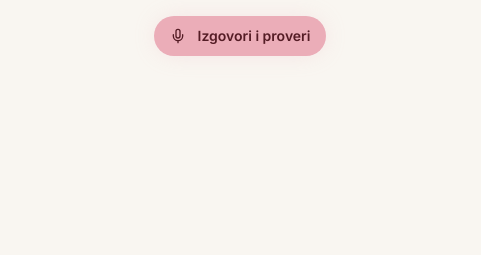
Test: Recorded pronunciation assessment › sends de recording for assessment and uses the returned score
Click the button "Izgovori i proveri" at (240, 36), box [154,16,326,56]
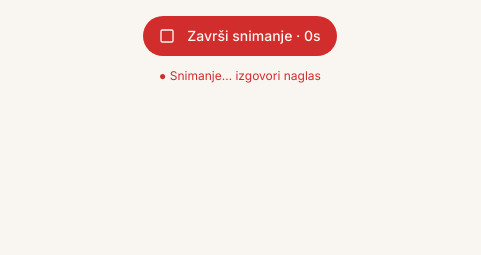
Click the button "Završi snimanje · 0s" at (240, 36), box [143,16,337,56]
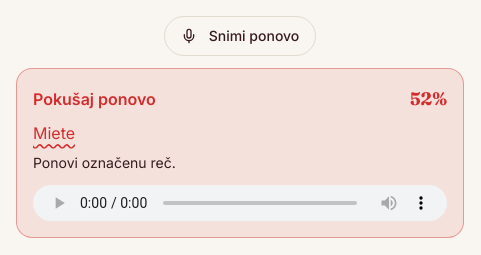
Now the text "52%" is shown, box [410,85,447,113]
